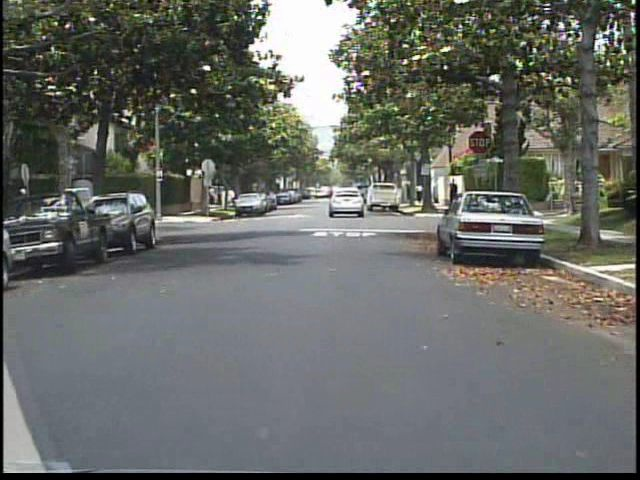person: (445, 176, 462, 213), (415, 179, 427, 205)
